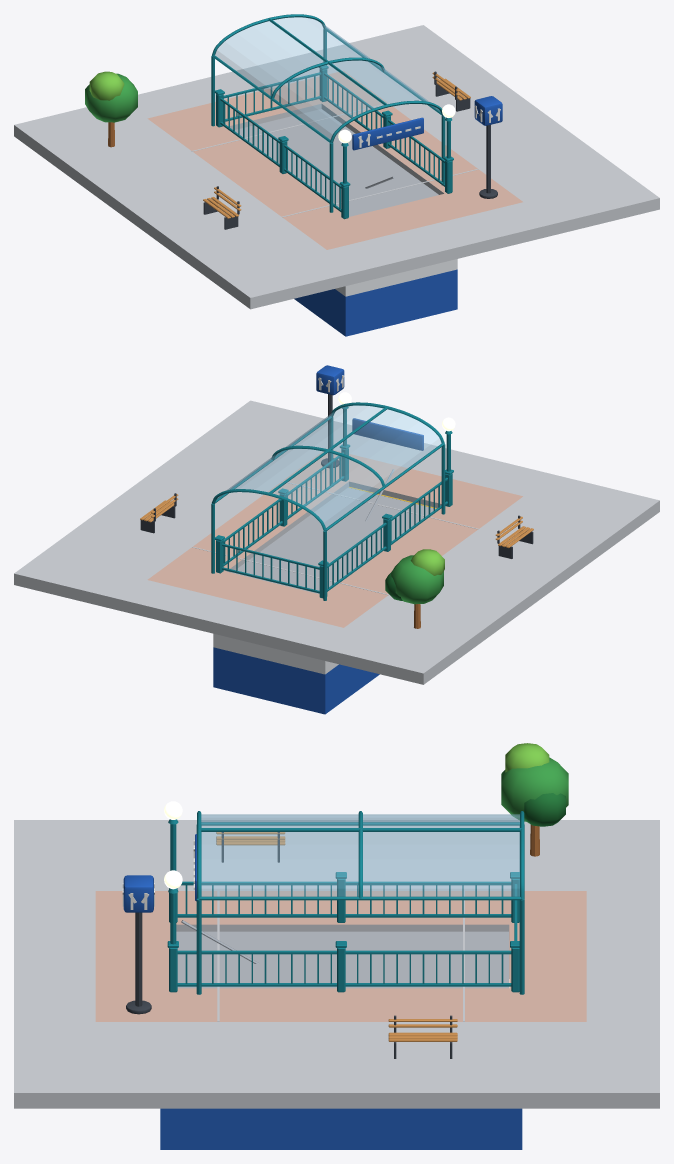
The model's file is entrada_metro.glb.
The picture shows the model from 3 angles, top to bottom: view 1: azimuth 30°, elevation 25°; view 2: azimuth 150°, elevation 25°; view 3: azimuth 270°, elevation 25°; orthographic projection. The views are drawn at different scales.
Visible parts, largest first — view 1: entrada_metro; view 2: entrada_metro; view 3: entrada_metro.
Part boxes in pixels (x1=…): entrada_metro: x1=14, y1=14, x2=659, y2=336; entrada_metro: x1=14, y1=365, x2=659, y2=714; entrada_metro: x1=14, y1=743, x2=659, y2=1149.
Bounding box in the file's own units: 15 × 7.3 × 15.
3 materials, 1 textured.
